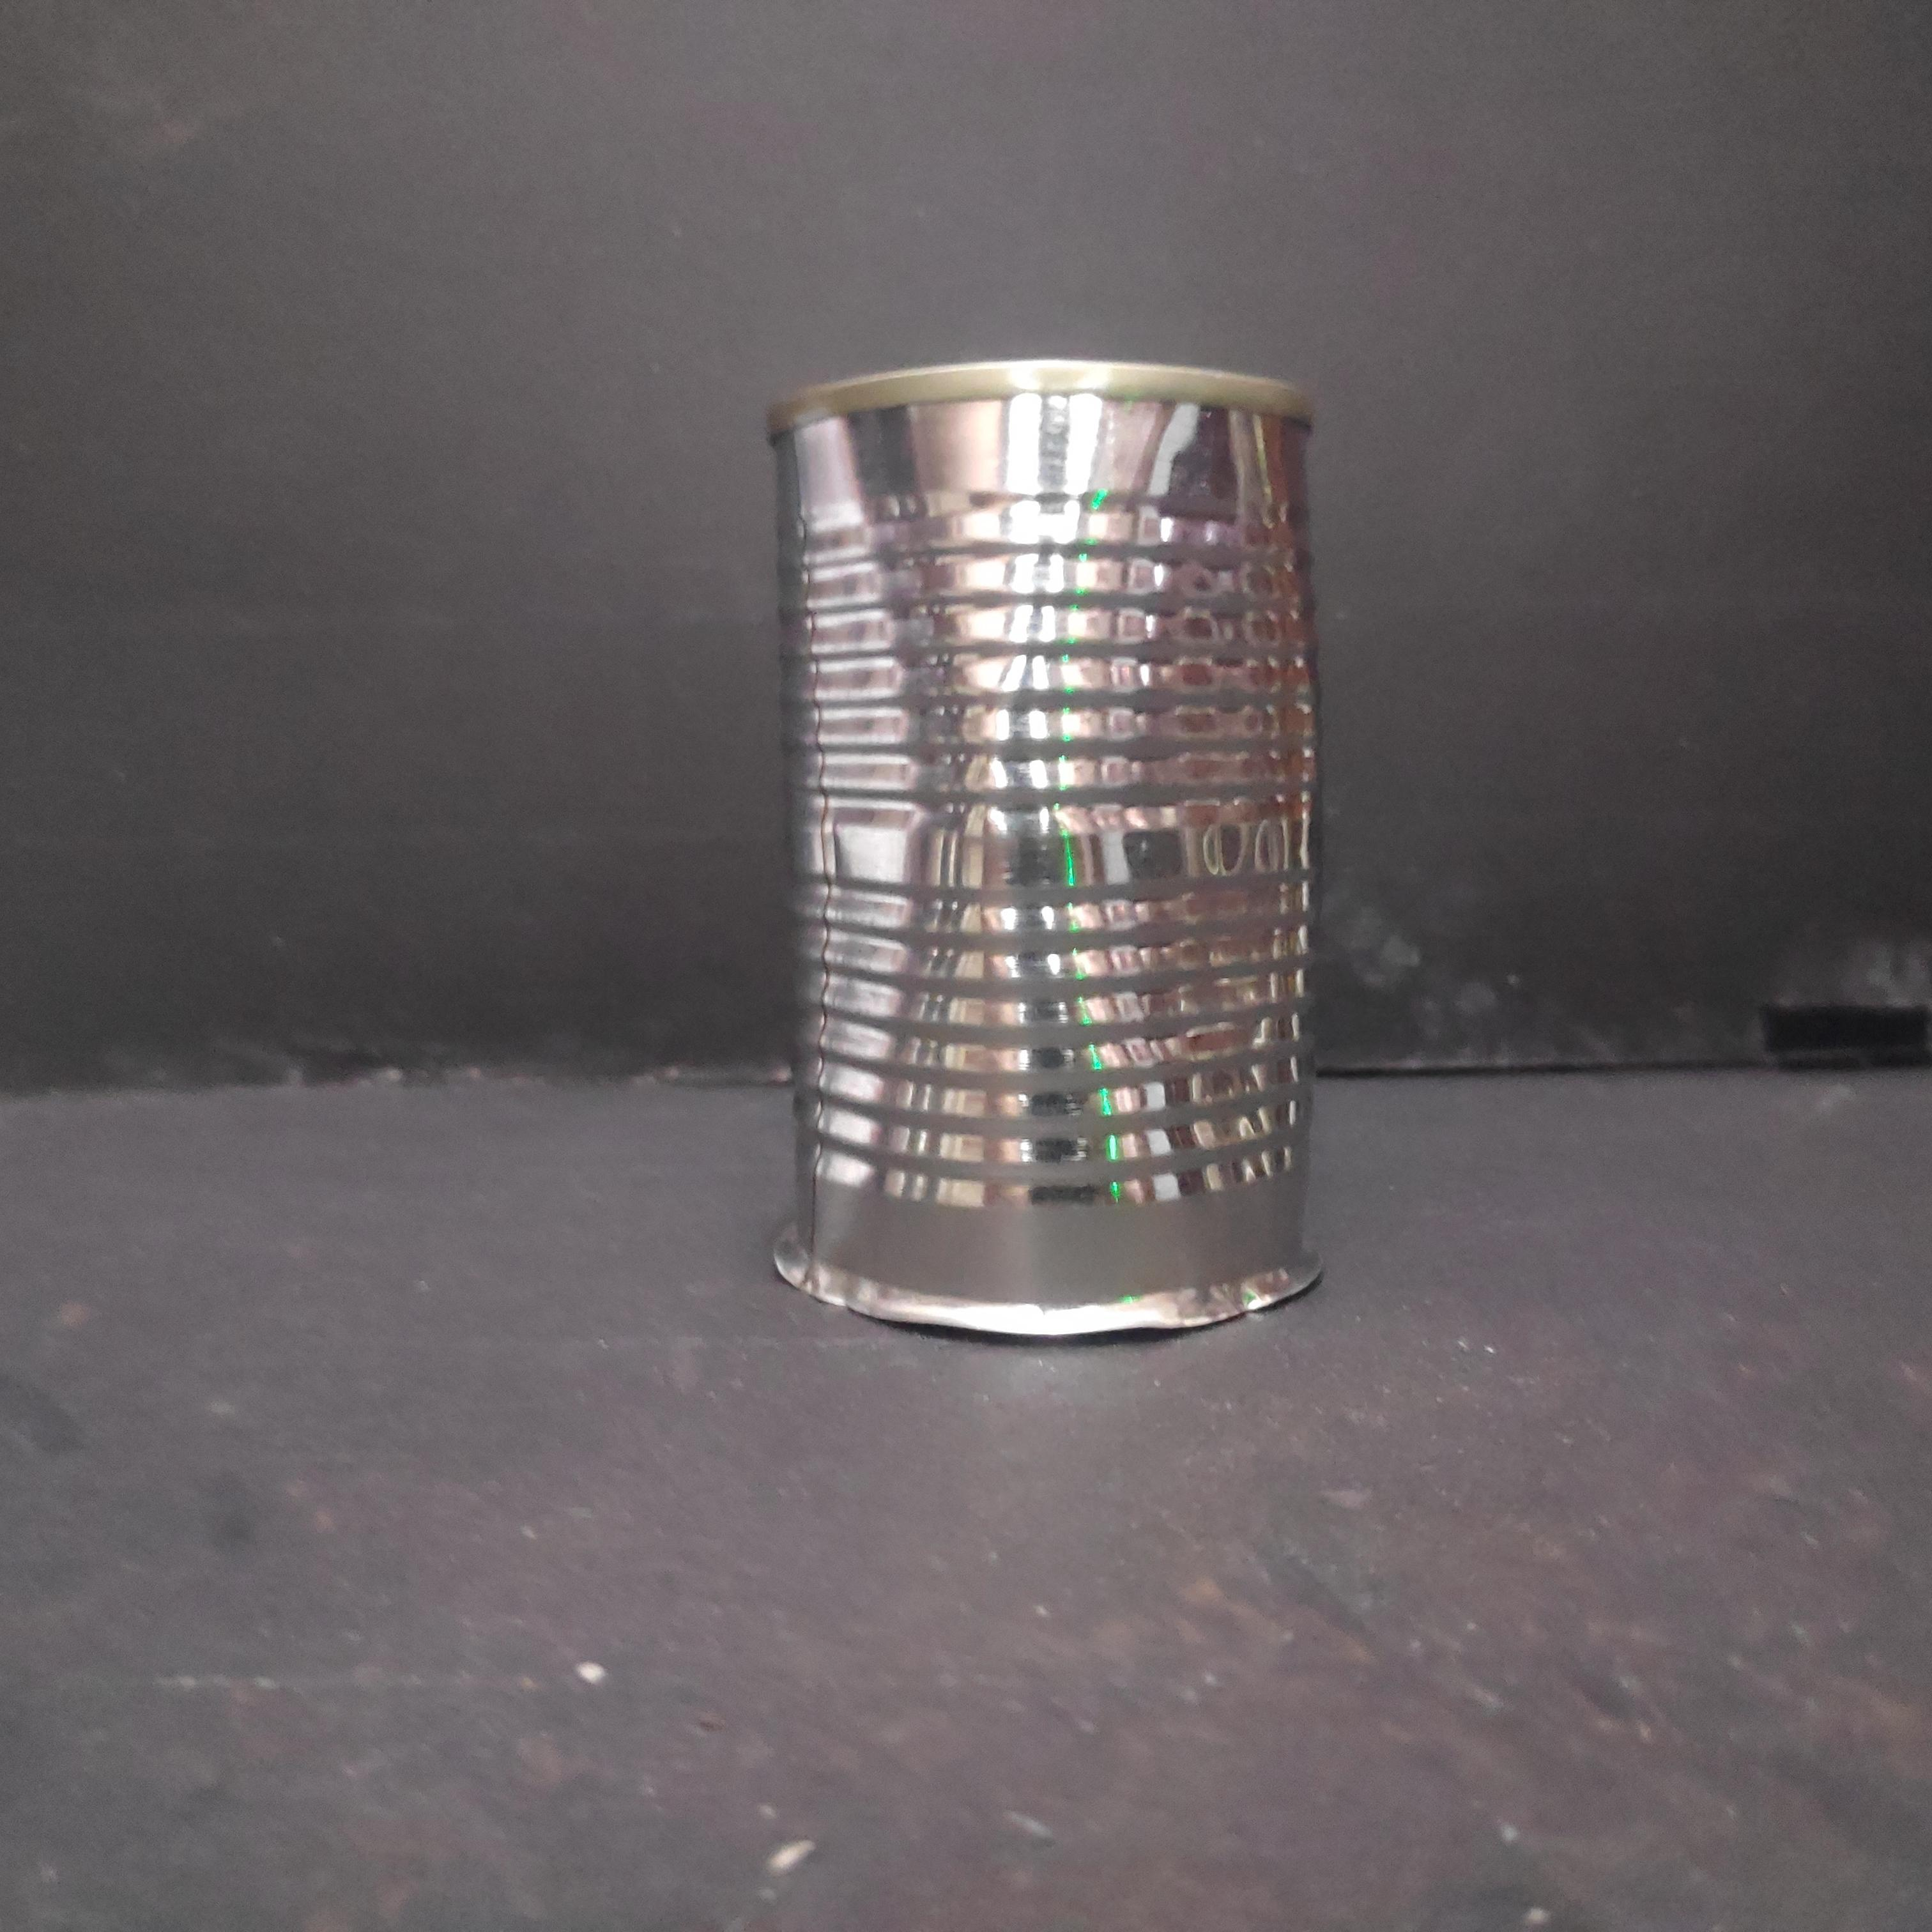Minor Defect: (748, 356, 1341, 1357)
